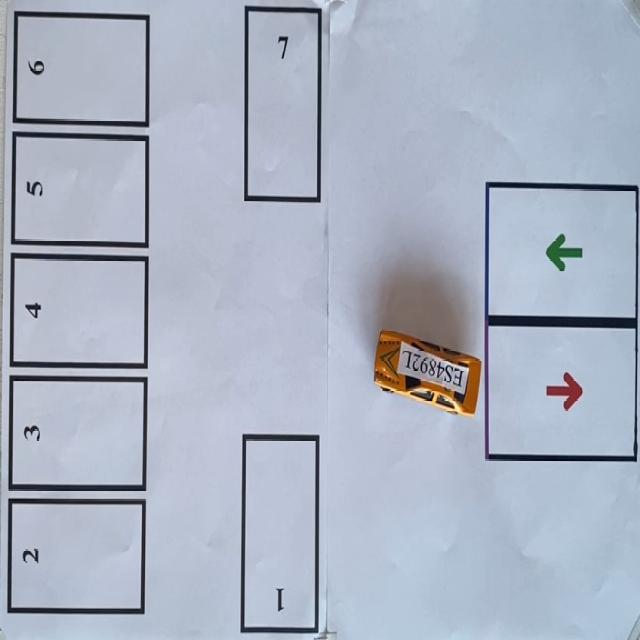car: (374, 330, 480, 416)
